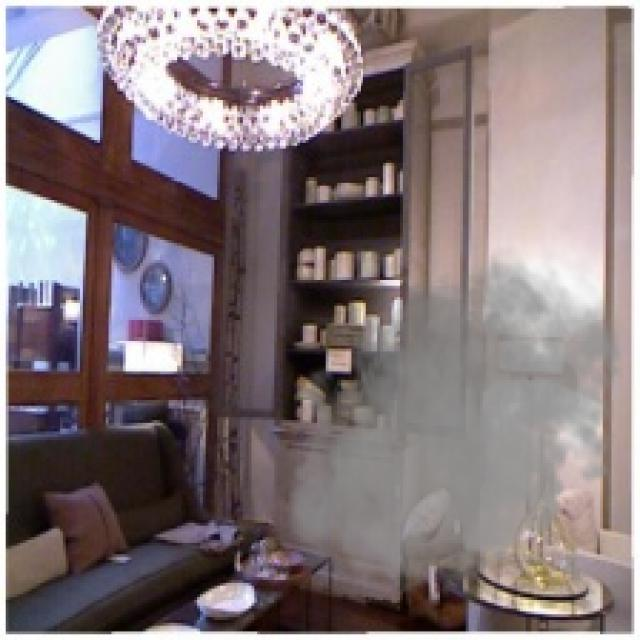smoke: (283, 234, 634, 603)
